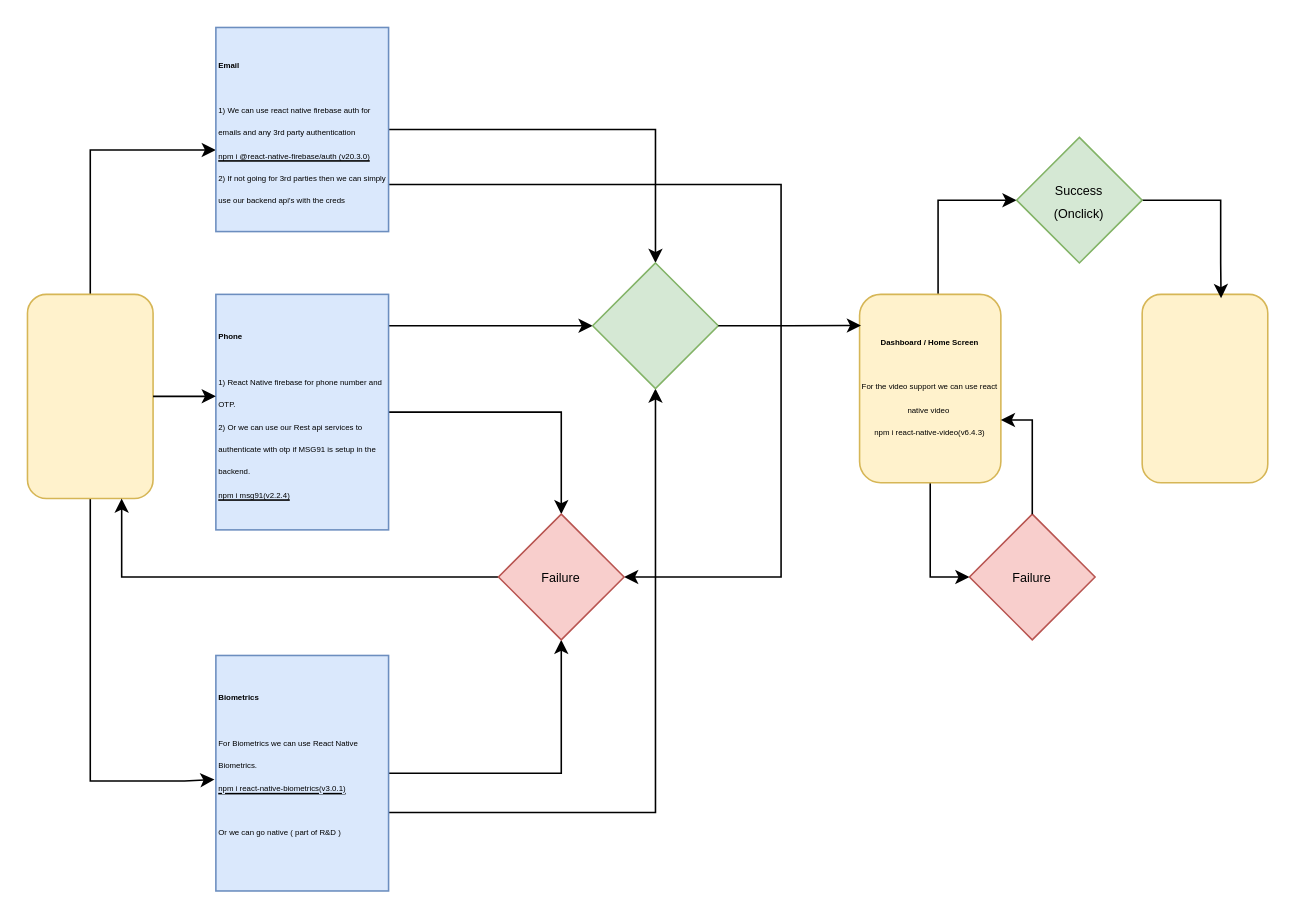
Some shapes in this 1295 by 918 pixel diagram are drawn without their labels. The shapes that lost their labels are listed below. From the top down, each one's centre as x and y in pixels, then its label:
point (654, 325): Success
point (89, 395): Login Screen Email - Password / Phone - OTP / Biometrics
point (1204, 388): Full Video Player Screen
